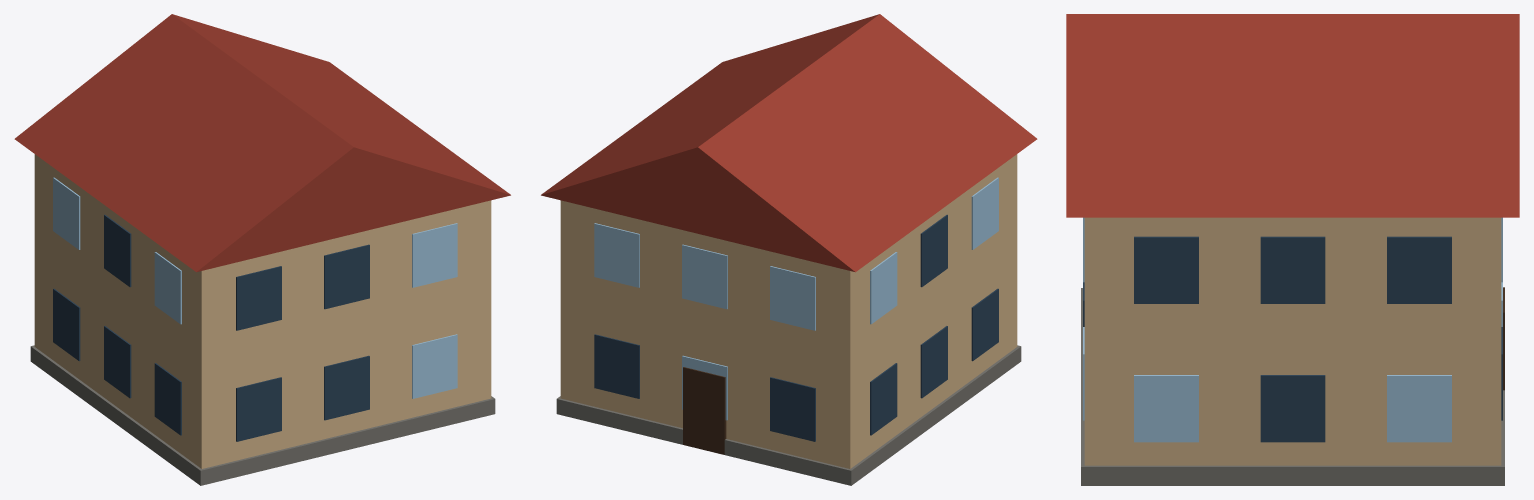
File: bld_house_d.glb
3 views of the same model, side by side, from view 1: azimuth 30°, elevation 25°; view 2: azimuth 150°, elevation 25°; view 3: azimuth 270°, elevation 25° (orthographic). The views are drawn at different scales.
Parts seen in each view (by area): view 1: bld_house_d__mesh; view 2: bld_house_d__mesh; view 3: bld_house_d__mesh.
Boxes of the visible parts, x1,y1,x2,y2 form: bld_house_d__mesh: [14, 14, 510, 485]; bld_house_d__mesh: [541, 14, 1037, 485]; bld_house_d__mesh: [1066, 14, 1519, 485].
Size of the model in its own units: 9.8 by 9.12 by 9.8.
